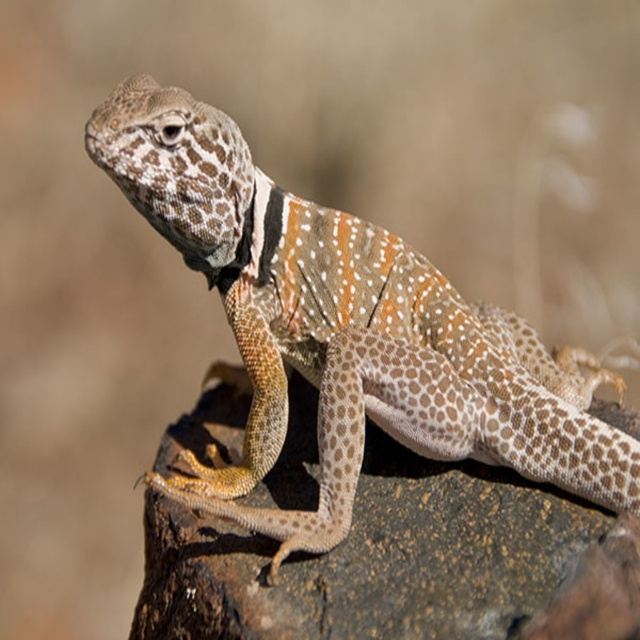Lizard: (71, 75, 640, 603)
